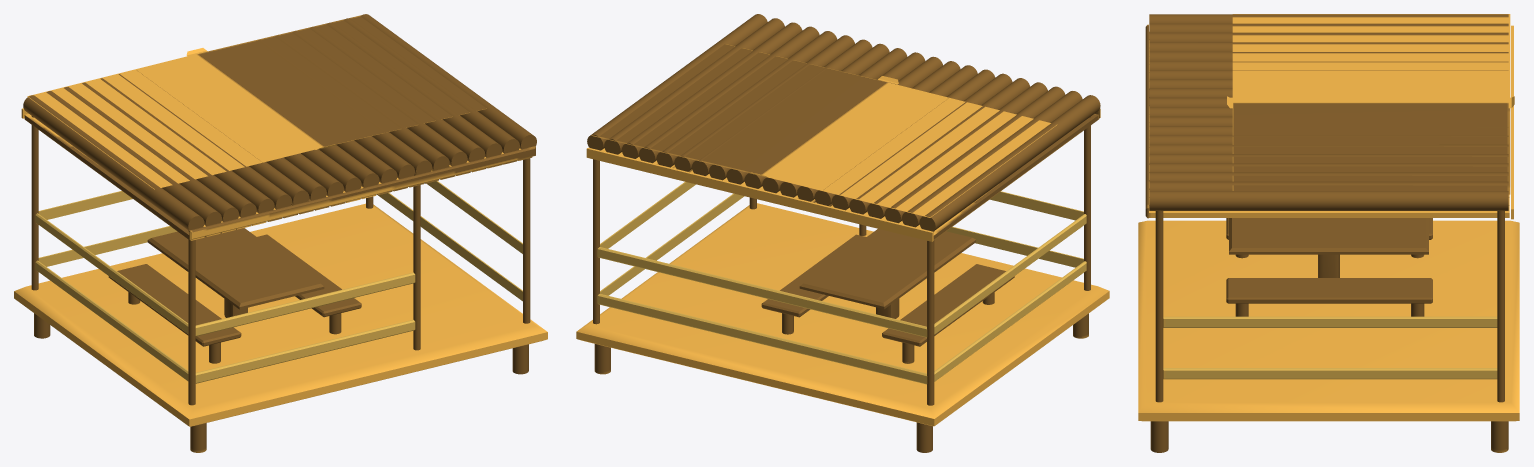
Rendered from Grill_Base.fbx.
3 renders of one model, left to right at view 1: azimuth 30°, elevation 25°; view 2: azimuth 150°, elevation 25°; view 3: azimuth 270°, elevation 25°, orthographic. The views are drawn at different scales.
Visible parts, largest first — view 1: polySurface14; view 2: polySurface14; view 3: polySurface14.
Boxes of the visible parts, x1,y1,x2,y2 form: polySurface14: (14,14,547,452); polySurface14: (576,14,1109,452); polySurface14: (1138,14,1519,452).
Bounding box in the file's own units: 11.78 × 7.58 × 9.98.
1 material, 1 textured.
